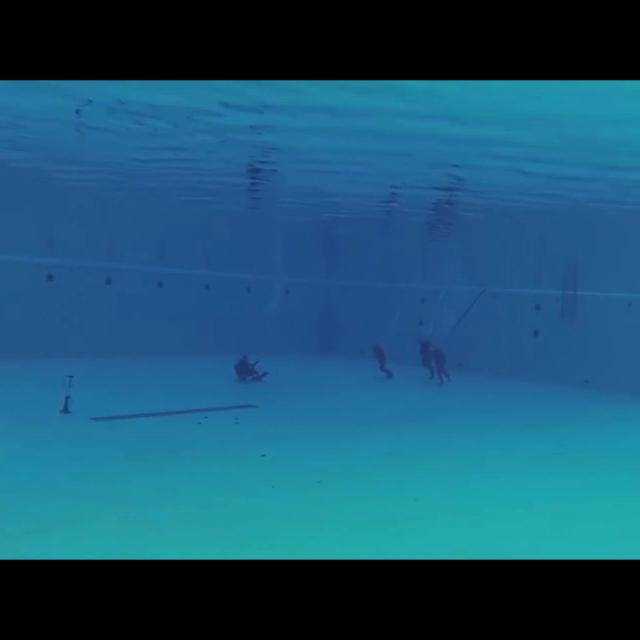human: (229, 346, 273, 392), (364, 333, 399, 385), (433, 341, 459, 394), (412, 328, 437, 381)
